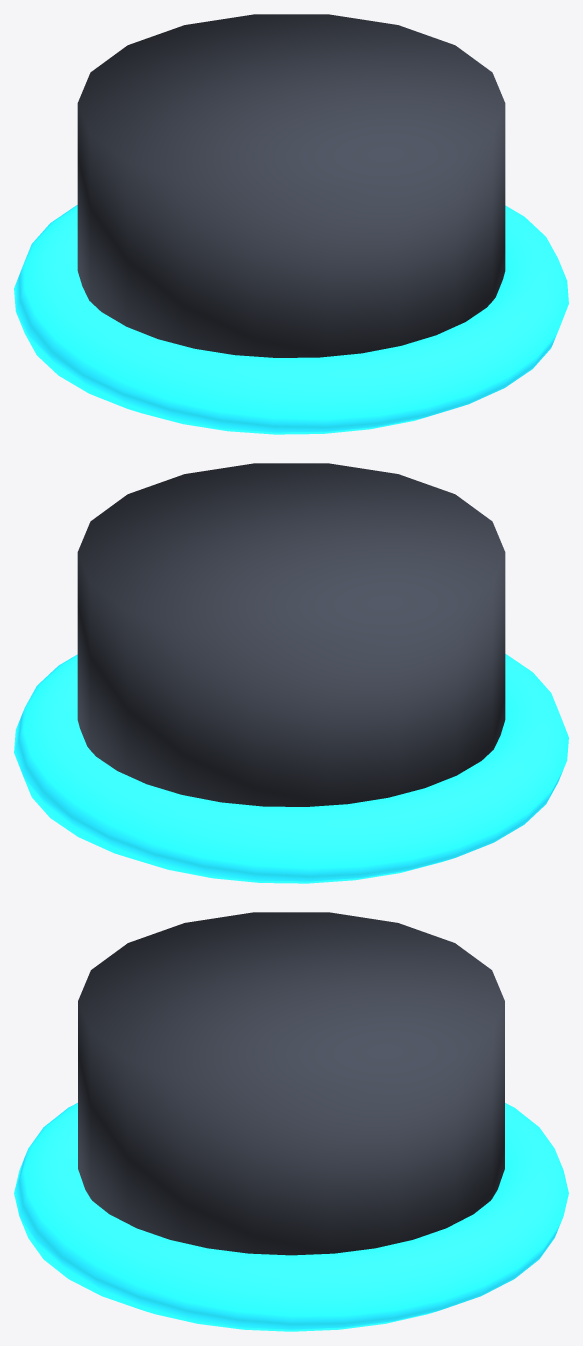
Rendered from 06_L95_MicroscopeFocusLens.fbx.
3 renders of one model, top to bottom at view 1: azimuth 30°, elevation 25°; view 2: azimuth 150°, elevation 25°; view 3: azimuth 270°, elevation 25°, orthographic.
Visible parts, largest first — view 1: L95_MicroscopeFocusLens_Part_0000, L95_MicroscopeFocusLens_Part_0002; view 2: L95_MicroscopeFocusLens_Part_0000, L95_MicroscopeFocusLens_Part_0002; view 3: L95_MicroscopeFocusLens_Part_0000, L95_MicroscopeFocusLens_Part_0002.
Boxes of the visible parts, x1,y1,x2,y2 form: L95_MicroscopeFocusLens_Part_0000: [77, 14, 505, 357]; L95_MicroscopeFocusLens_Part_0002: [14, 205, 568, 434]; L95_MicroscopeFocusLens_Part_0000: [77, 463, 505, 806]; L95_MicroscopeFocusLens_Part_0002: [14, 654, 568, 883]; L95_MicroscopeFocusLens_Part_0000: [78, 912, 504, 1255]; L95_MicroscopeFocusLens_Part_0002: [14, 1103, 568, 1331].
Bounding box in the file's own units: 0.442 × 0.1995 × 0.442.
